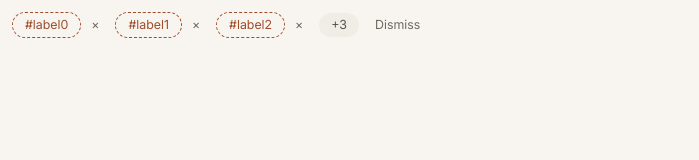
quiet slots › keeps one suggestion row with three pills and an explicit overflow control
The image size is (699, 160).
Expected: the number of buttons "#label0" is 3, [12,12,81,38]; [116,12,182,38]; [216,12,285,38]
Click the button "+3": click(339, 25) [319,13,359,37]
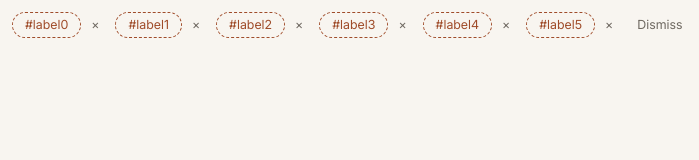
Expected: the number of buttons "#label0" is 6, [12,12,81,38]; [116,12,182,38]; [216,12,285,38]; [319,12,388,38]; [423,12,492,38]; [526,12,595,38]
